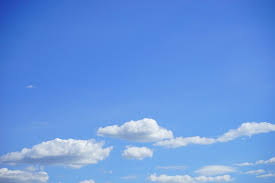sky: (3, 4, 271, 183)
